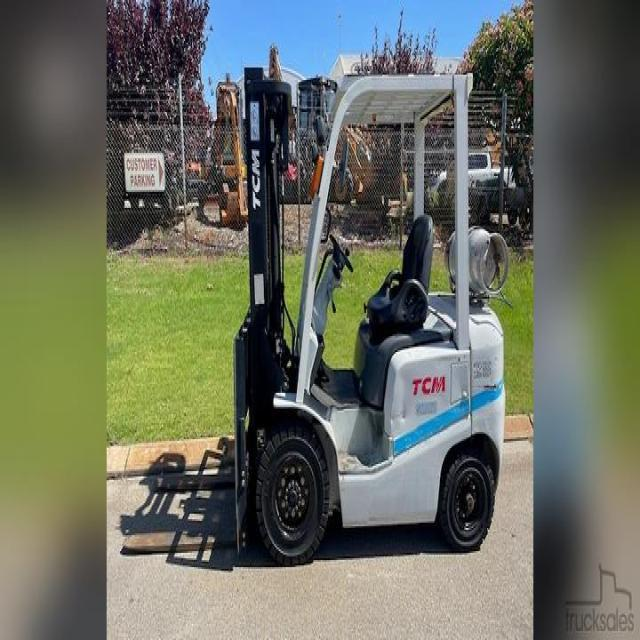forklift: (227, 62, 512, 579)
